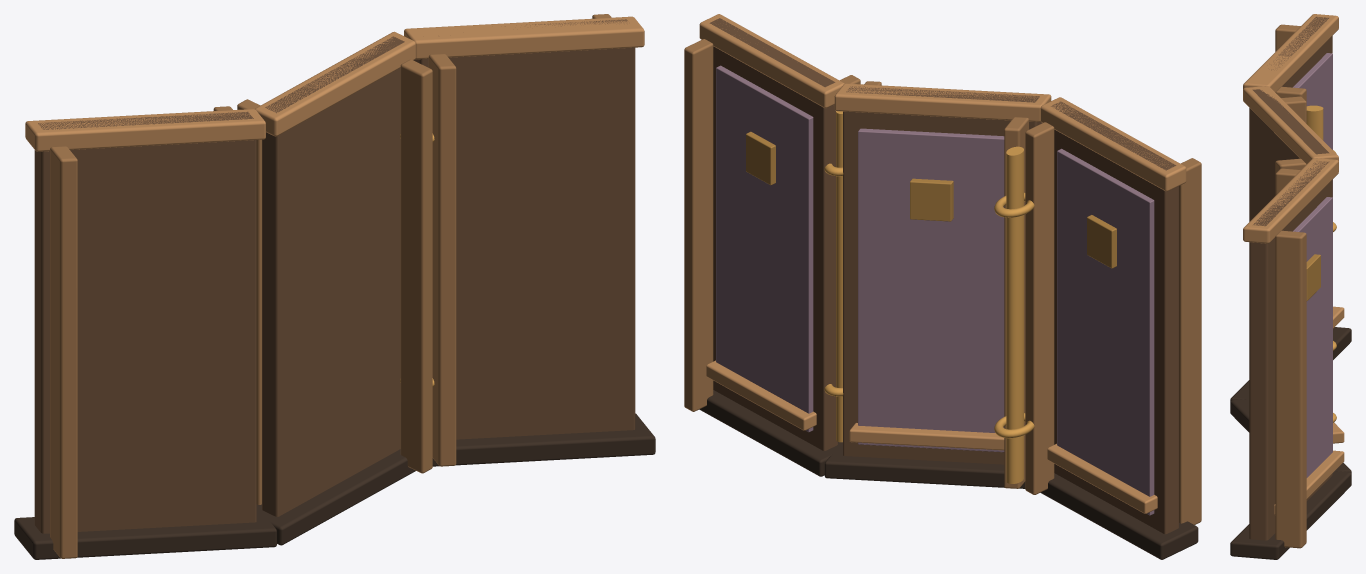
The model's file is detail_folding_screen.glb.
The picture shows the model from 3 angles, left to right: view 1: azimuth 30°, elevation 25°; view 2: azimuth 150°, elevation 25°; view 3: azimuth 270°, elevation 25°; orthographic projection. The views are drawn at different scales.
Parts seen in each view (by area): view 1: wood, metal; view 2: stone, wood, metal; view 3: wood, metal, stone.
Part boxes in pixels (x1,y1,x2,y2): wood: (14,14,655,559); metal: (25,16,644,151); stone: (716,65,1154,515); wood: (684,18,1201,559); metal: (699,14,1186,513); wood: (1230,16,1351,559); metal: (1243,14,1344,514); stone: (1293,53,1332,477).
Size of the model in its own units: 2.6 by 1.8 by 0.6.
